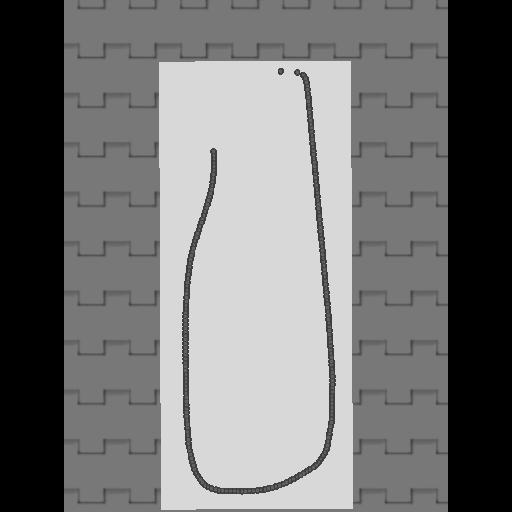Defect: (198, 75, 220, 149)
